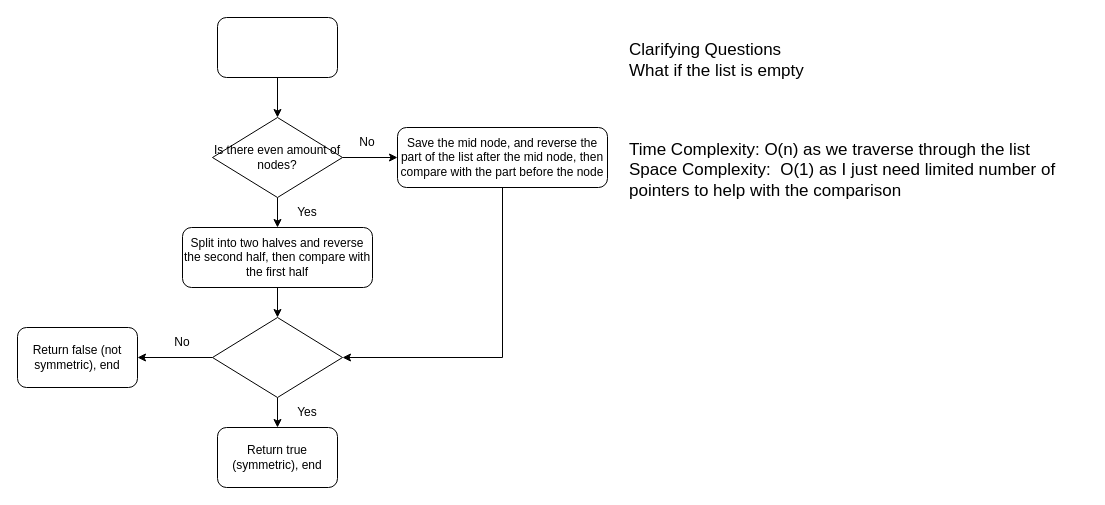
The diagram is 1105 pixels wide and 505 high, and some of its shapes have lost their labels. Here are the shapes that lost their labels. From the top down, the box of each, then its label:
(216, 16, 338, 78): Start, get a linked list of records
(212, 316, 342, 398): Do thay match each other
